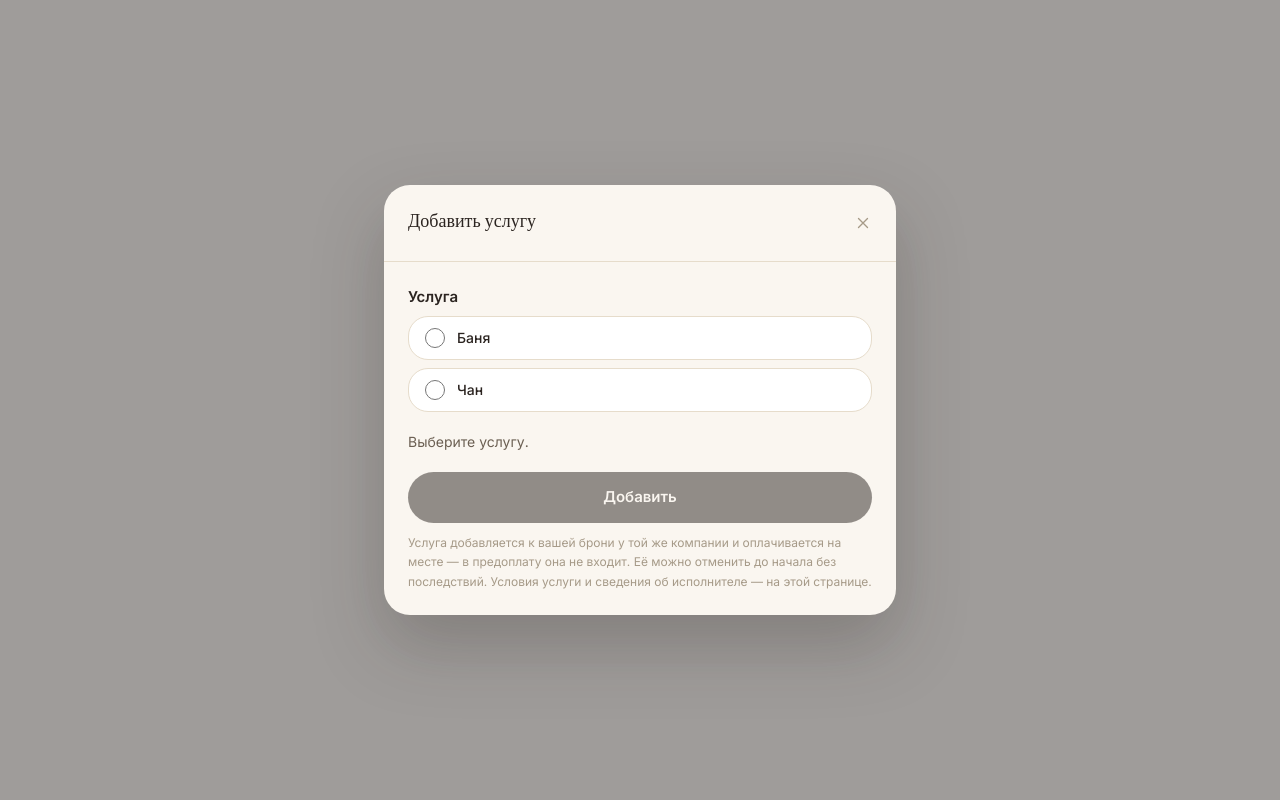
Test: ServicePickDialog (QA цикл 39) › every choice target of the guest is at least 44 px high (class contract), and a closed date says so in words
Click the radio button labelled "Баня" at (435, 338), box [425, 328, 445, 348]
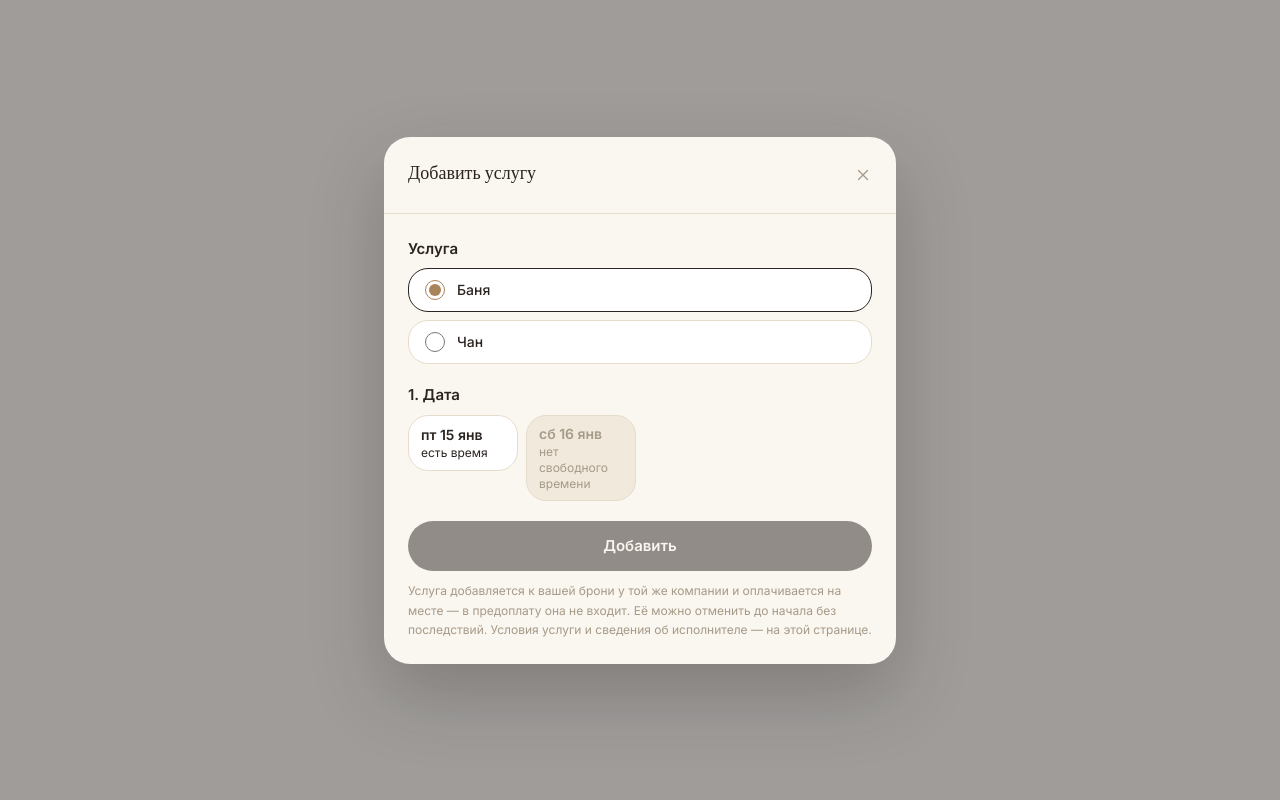
Expected: the button "сб 16 янв нет свободного времени" is disabled, [526, 414, 636, 500]
Expected: the button "сб 16 янв нет свободного времени" is shown, [526, 414, 636, 500]
